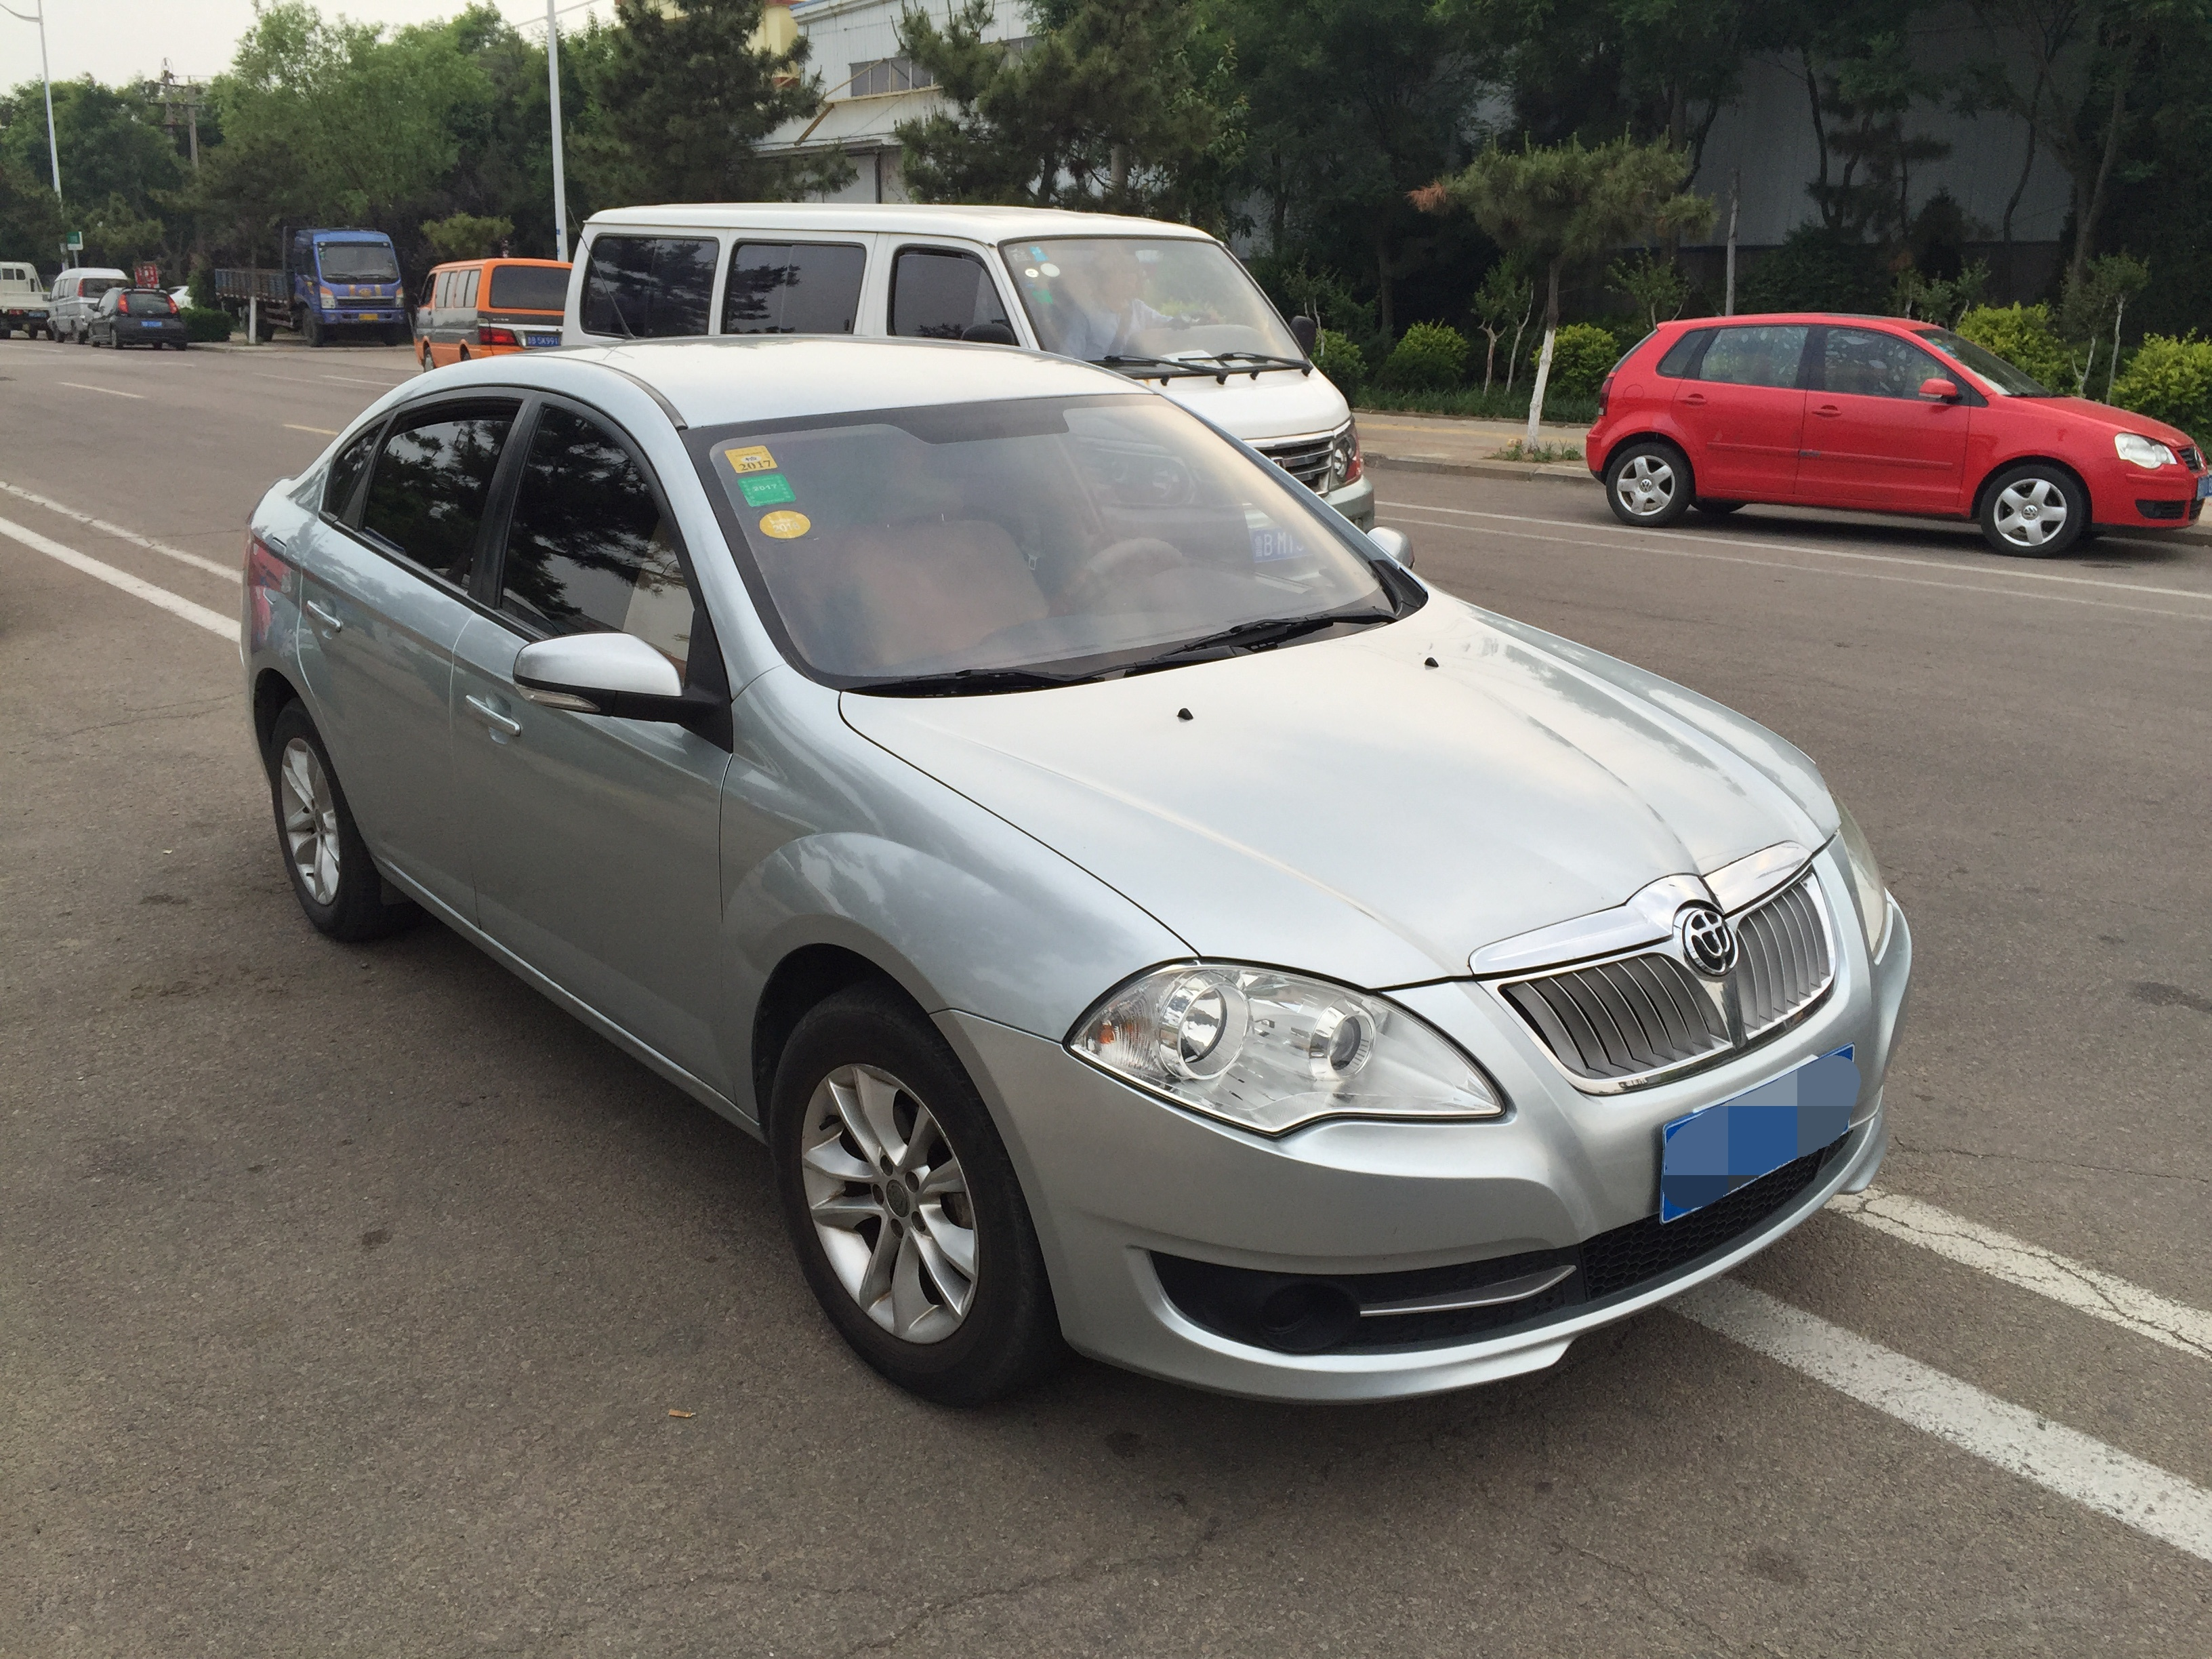family sedan: (253, 310, 1949, 1399)
